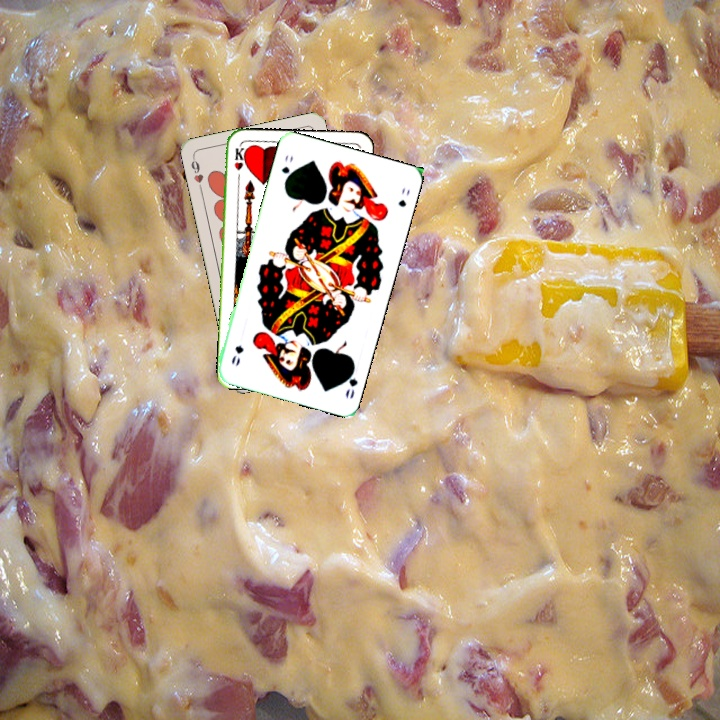GO: (340, 361, 360, 401), (277, 151, 296, 187)
H9: (187, 153, 206, 193)
HK: (230, 144, 247, 184)
